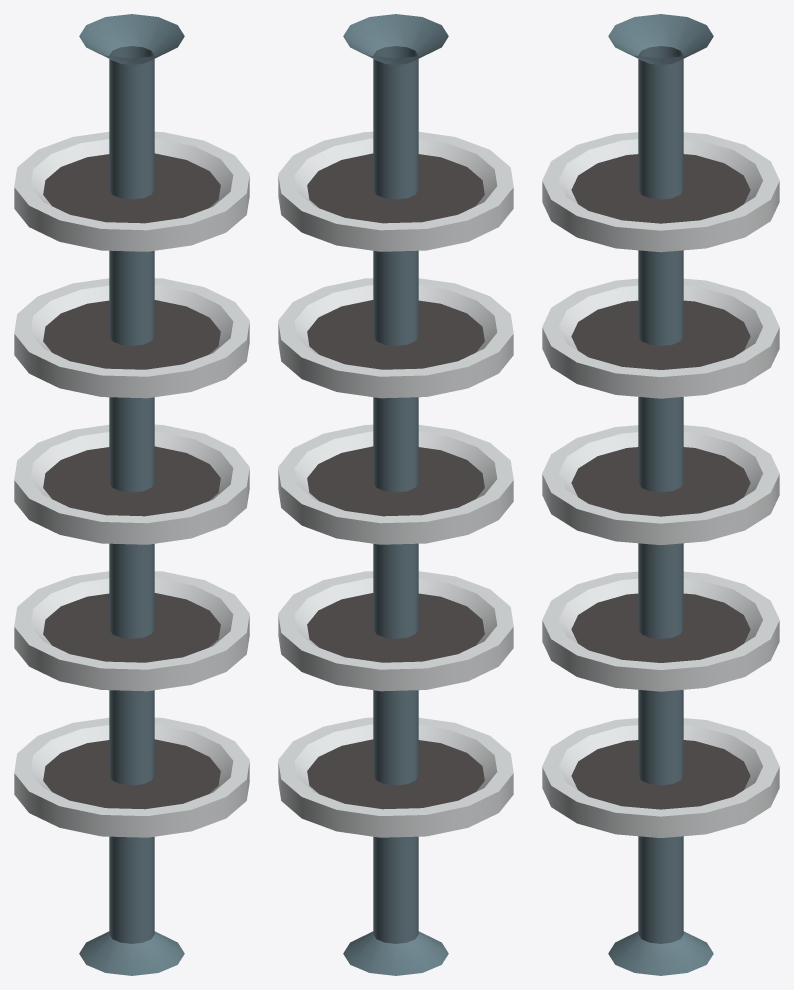
File: Mini_farm_001_Part_01.fbx
The picture shows the model from 3 angles, left to right: view 1: azimuth 30°, elevation 25°; view 2: azimuth 150°, elevation 25°; view 3: azimuth 270°, elevation 25°; orthographic projection.
Parts seen in each view (by area): view 1: Mini_farm_001_Part_01; view 2: Mini_farm_001_Part_01; view 3: Mini_farm_001_Part_01.
Part boxes in pixels (x1,y1,x2,y2): Mini_farm_001_Part_01: [14, 14, 249, 975]; Mini_farm_001_Part_01: [278, 14, 513, 975]; Mini_farm_001_Part_01: [542, 14, 779, 975].
Size of the model in its own units: 76.76 by 76.76 by 327.
